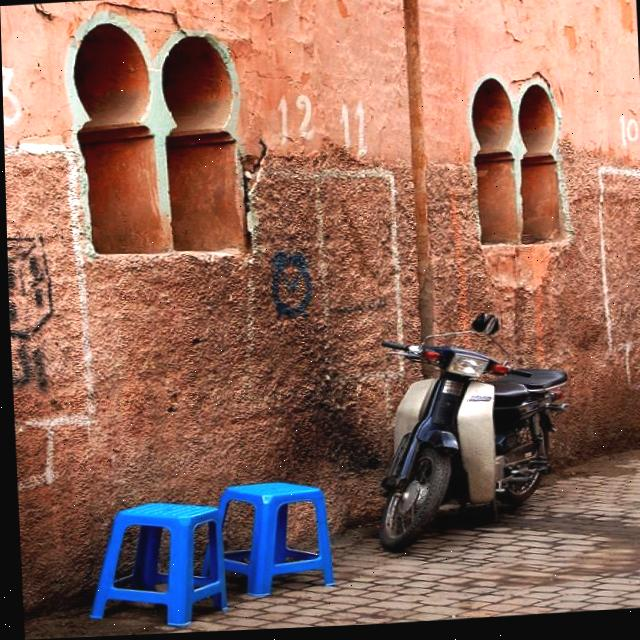motorcycle: (361, 298, 578, 552)
